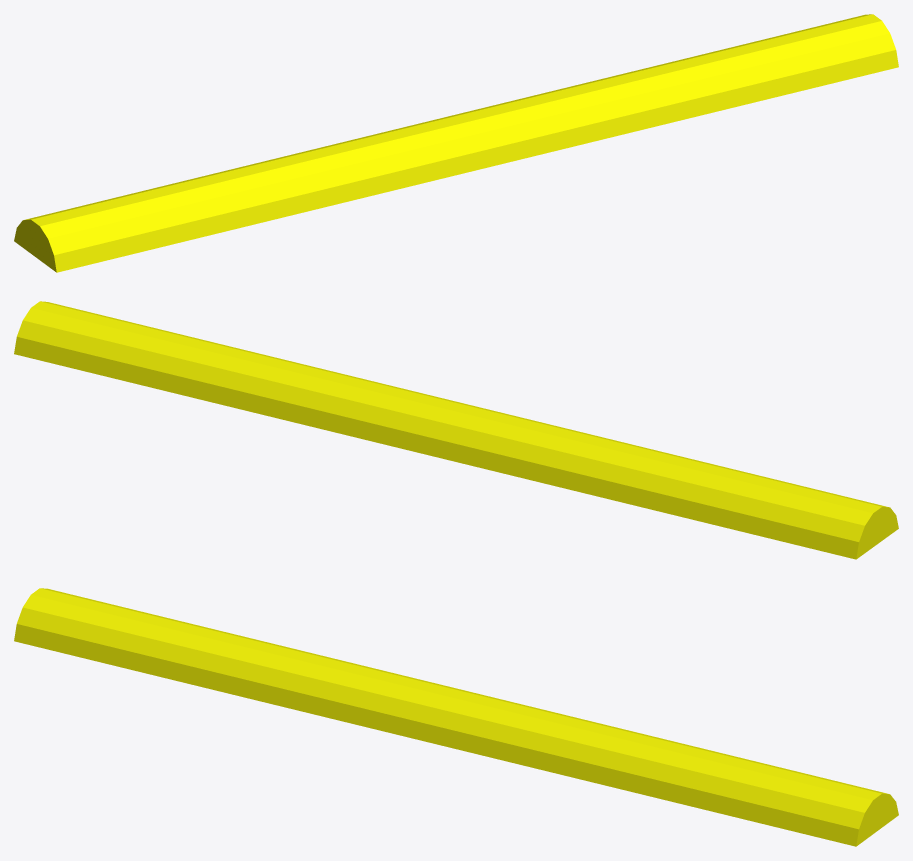
Rendered from yellow_speed_bump__lowpoly.glb.
The picture shows the model from 3 angles, top to bottom: view 1: azimuth 30°, elevation 25°; view 2: azimuth 150°, elevation 25°; view 3: azimuth 330°, elevation 25°; orthographic projection.
Parts seen in each view (by area): view 1: Bump; view 2: Bump; view 3: Bump.
Boxes of the visible parts, x1,y1,x2,y2 form: Bump: [14, 14, 898, 272]; Bump: [14, 301, 898, 559]; Bump: [14, 588, 898, 846].
Size of the model in its own units: 5.27 by 0.2046 by 0.4634.
